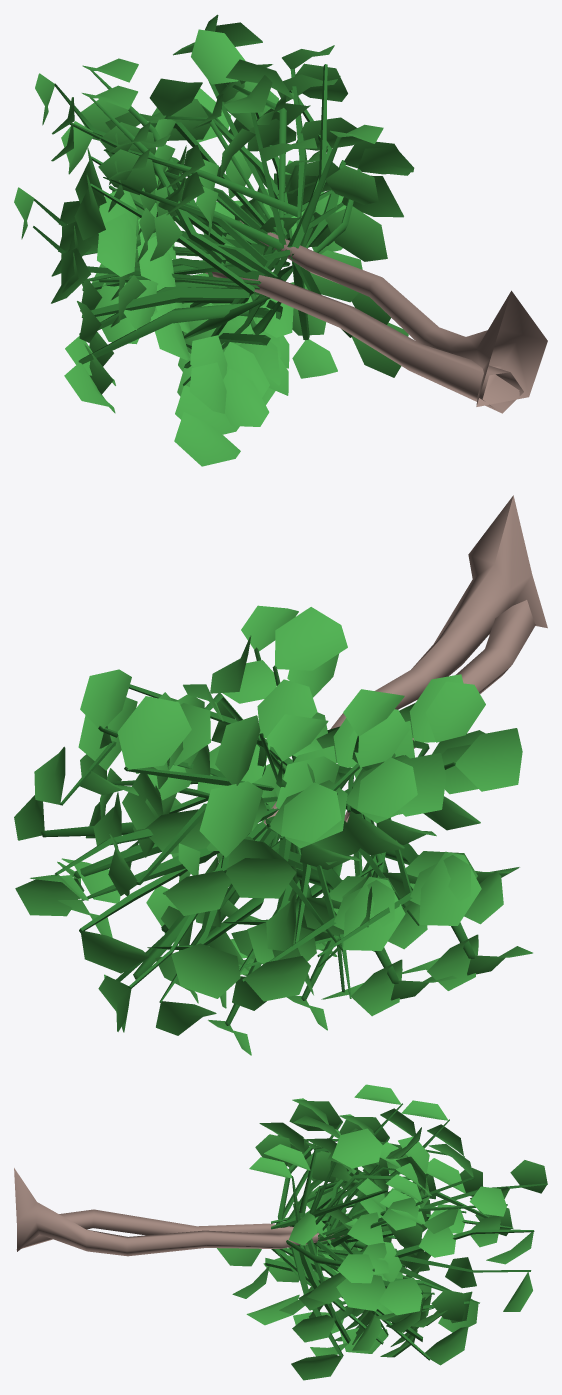
File: plant.glb
3 renders of one model, top to bottom at view 1: azimuth 30°, elevation 25°; view 2: azimuth 150°, elevation 25°; view 3: azimuth 270°, elevation 25°, orthographic. The views are drawn at different scales.
Visible parts, largest first — view 1: flower_026; view 2: flower_026; view 3: flower_026.
Boxes of the visible parts, bbox=[...] form: flower_026: bbox=[14, 14, 547, 466]; flower_026: bbox=[14, 495, 547, 1055]; flower_026: bbox=[14, 1084, 547, 1380].
Size of the model in its own units: 0.682 by 0.5825 by 1.15.
1 material, 1 textured.
